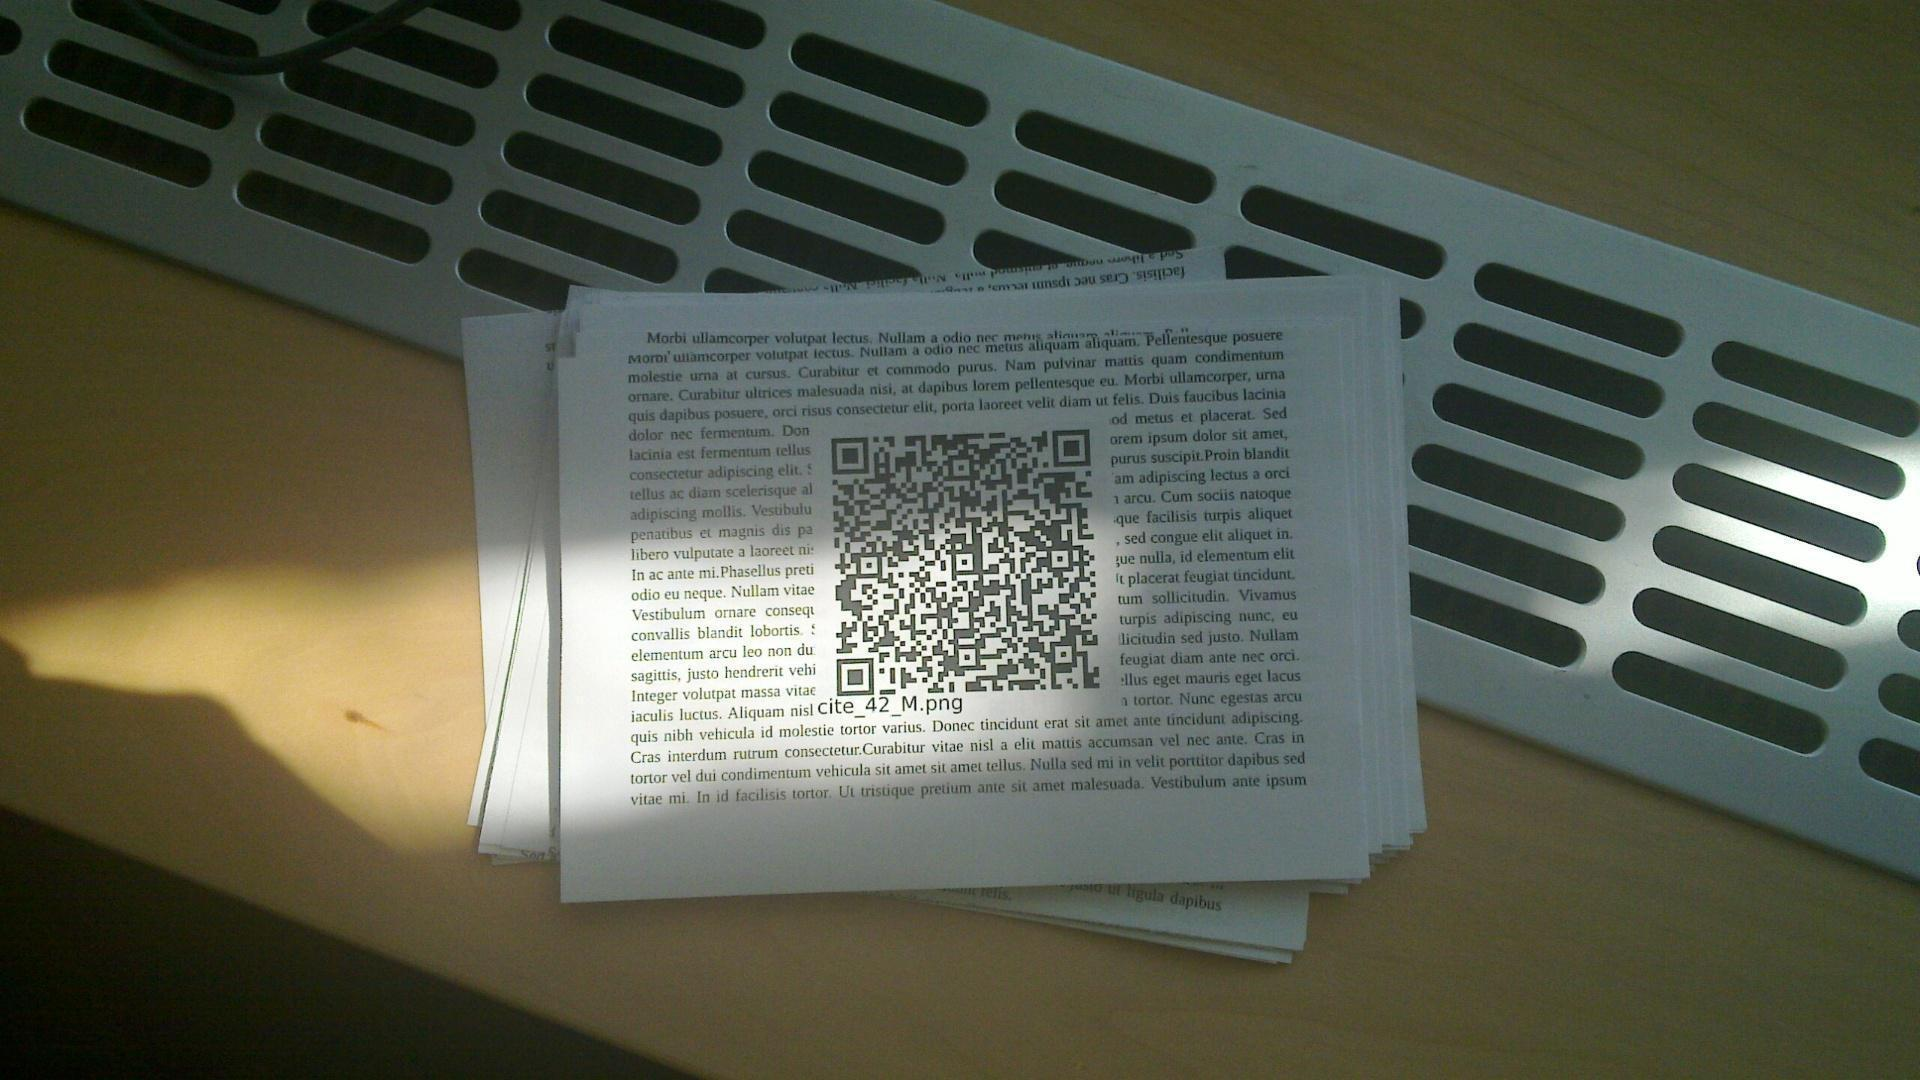qr_code: (829, 429, 1101, 696)
